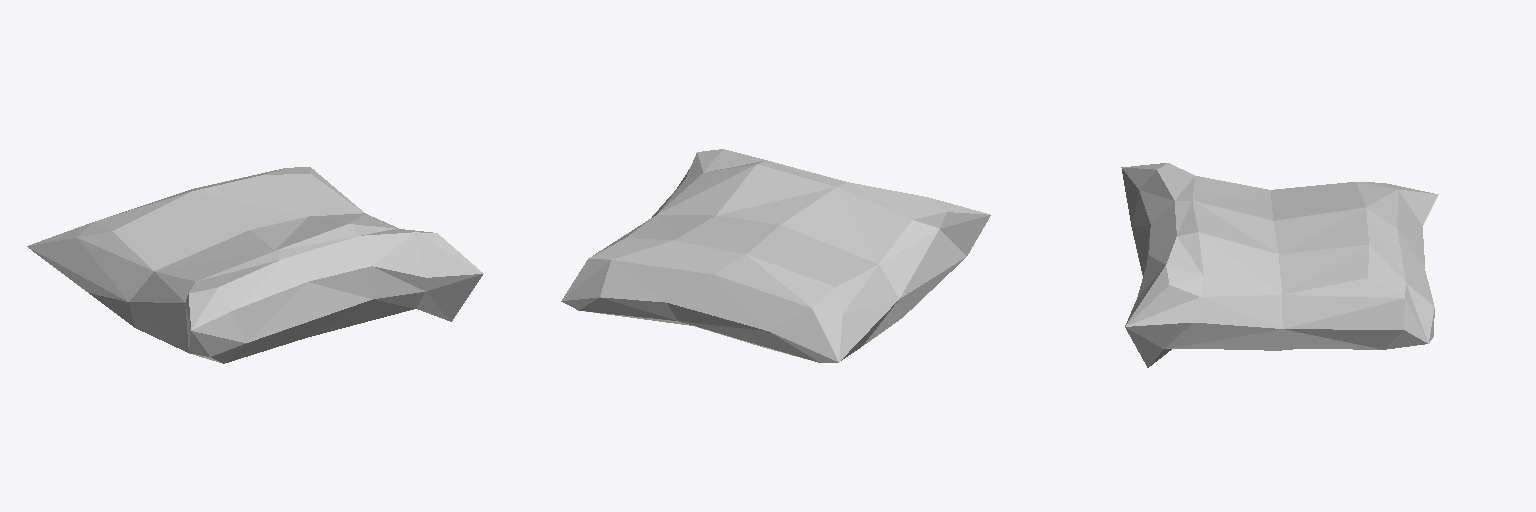
Rendered from Bed_Pillow.obj.
3 renders of one model, left to right at view 1: azimuth 30°, elevation 25°; view 2: azimuth 150°, elevation 25°; view 3: azimuth 270°, elevation 25°, orthographic.
Visible parts, largest first — view 1: Bed_Pillow_LOD0_Bed_Pillow.001; view 2: Bed_Pillow_LOD0_Bed_Pillow.001; view 3: Bed_Pillow_LOD0_Bed_Pillow.001.
Boxes of the visible parts, box(x1,y1,x2,y2) form: Bed_Pillow_LOD0_Bed_Pillow.001: box(27, 167, 483, 363); Bed_Pillow_LOD0_Bed_Pillow.001: box(561, 149, 990, 362); Bed_Pillow_LOD0_Bed_Pillow.001: box(1121, 163, 1438, 367).
Bounding box in the file's own units: 0.5808 × 0.182 × 0.531.